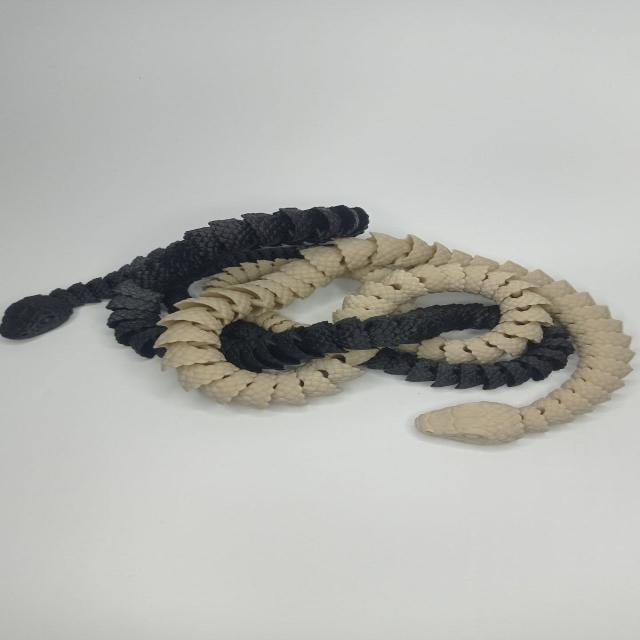Without deffect: (3, 182, 635, 452)
